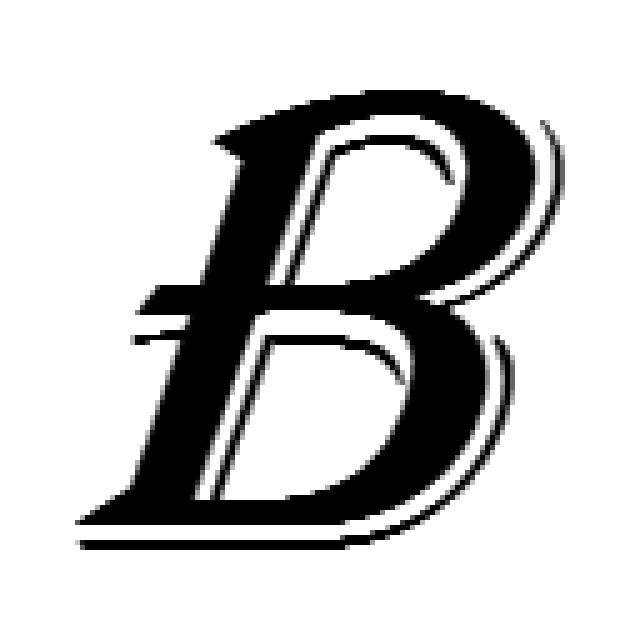B: (80, 90, 570, 555)
